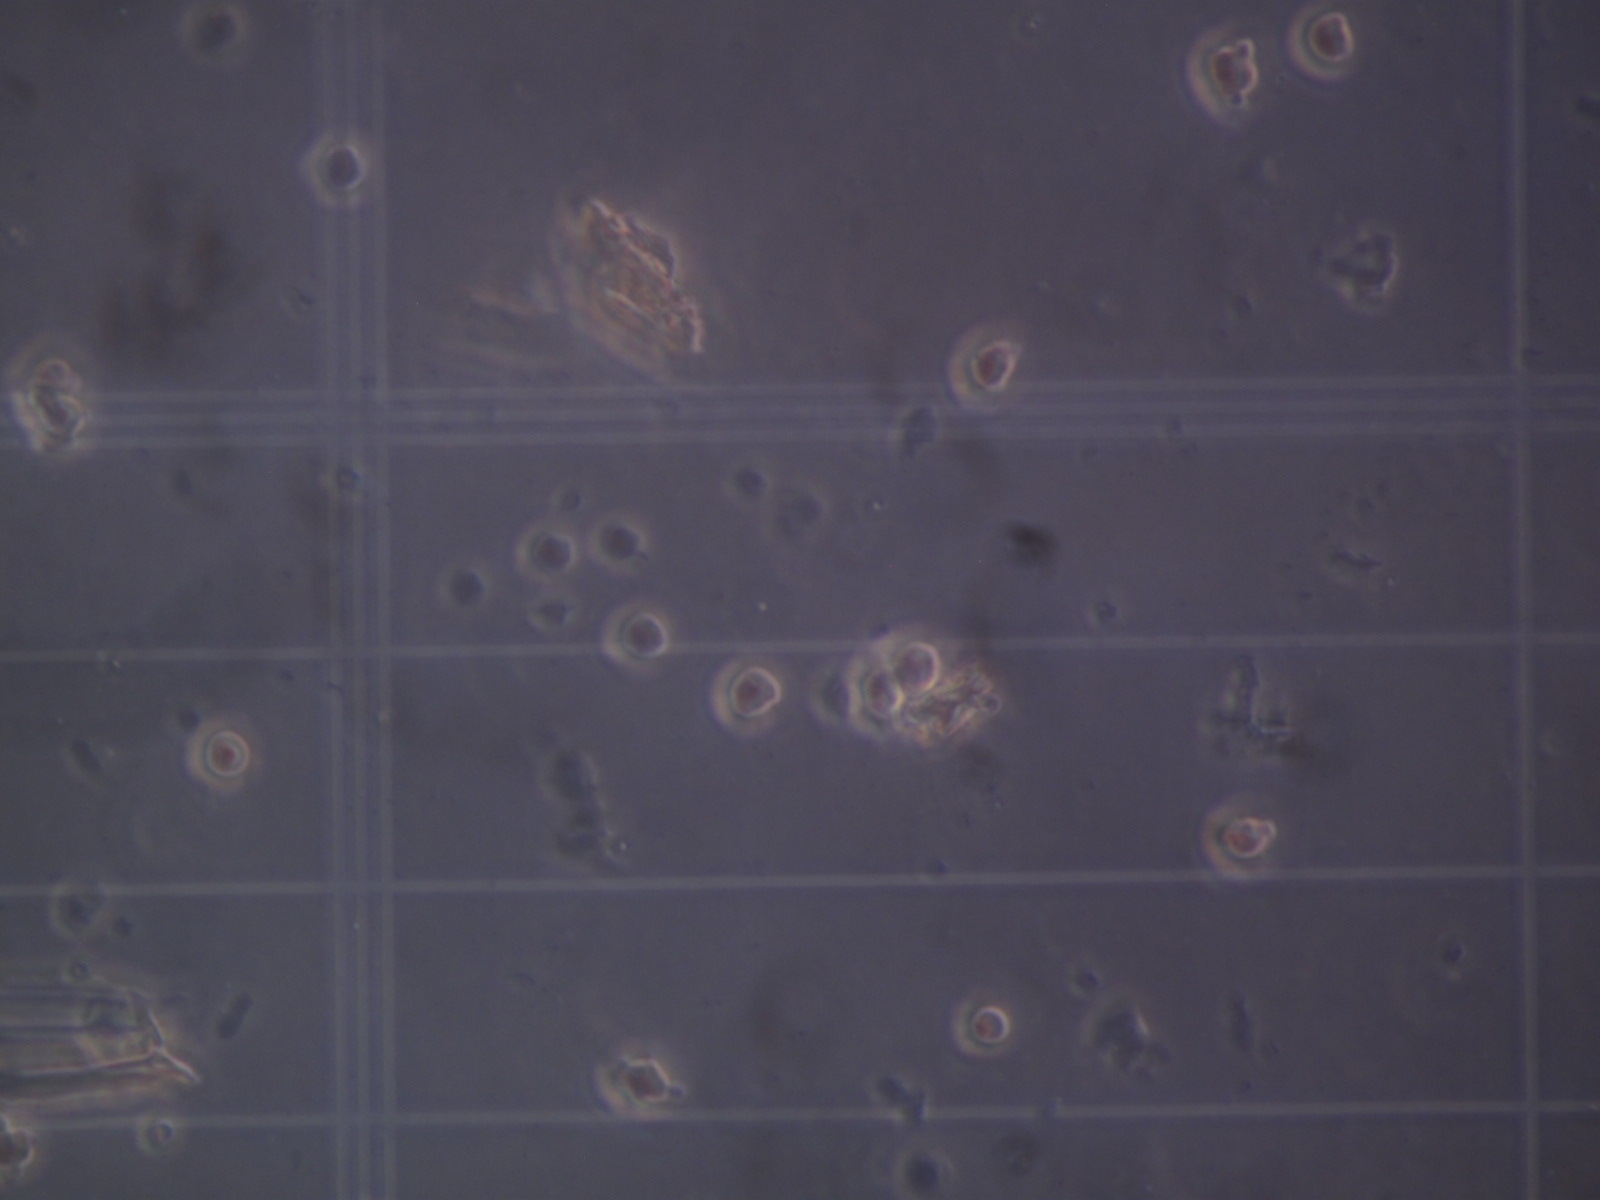hemo: (1187, 26, 1257, 124), (946, 326, 1015, 413), (711, 661, 784, 737), (1201, 800, 1267, 884), (1286, 3, 1356, 79), (595, 1046, 671, 1116), (297, 135, 368, 208), (601, 603, 671, 676), (848, 650, 906, 736), (874, 626, 941, 701), (186, 716, 251, 792), (178, 1, 244, 73), (19, 389, 92, 453), (14, 332, 93, 388), (947, 989, 1013, 1058), (511, 518, 576, 580), (585, 513, 646, 575)
